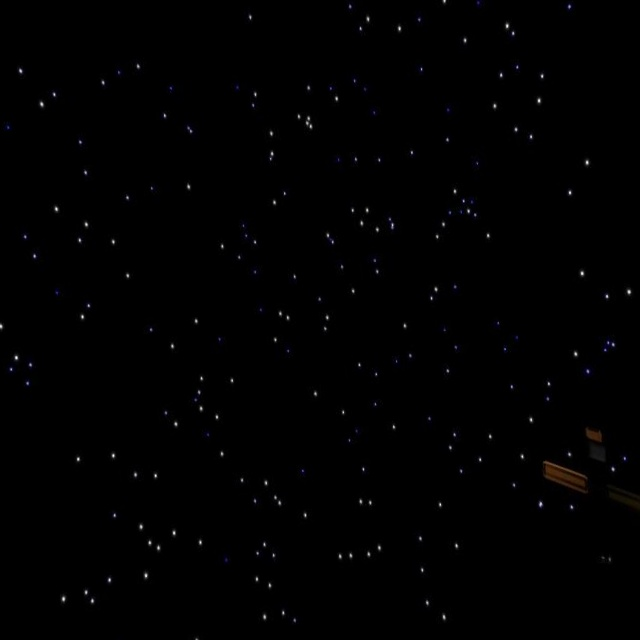medium_debris: (525, 415, 640, 542)
